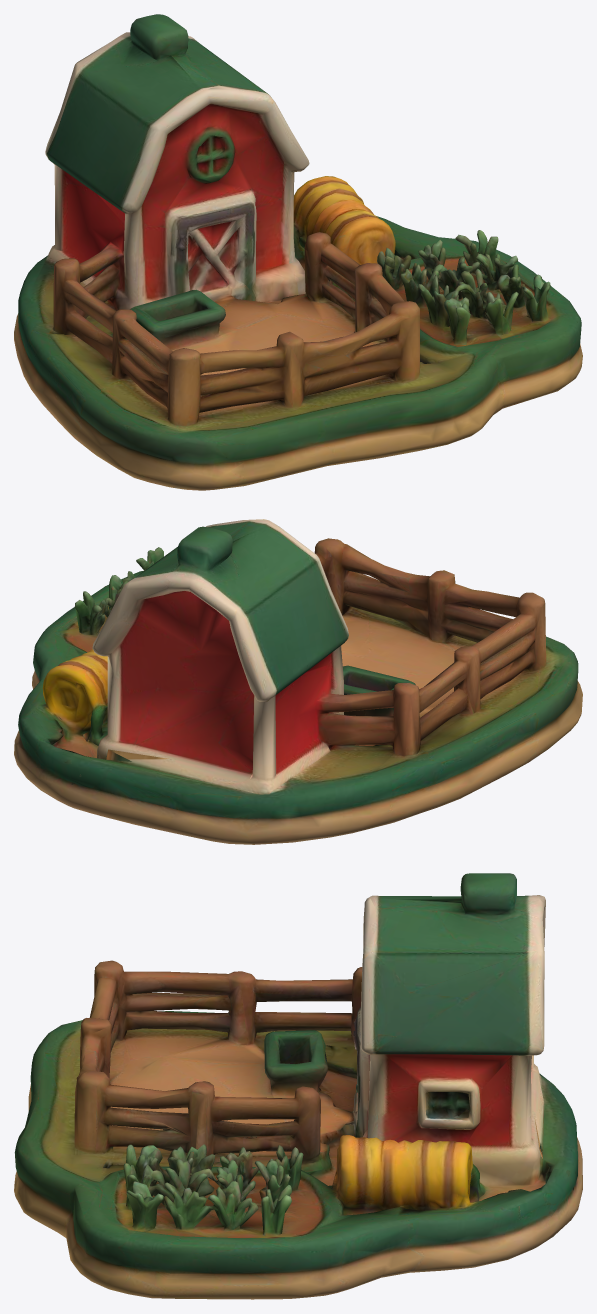
The model's file is facility-farm.glb.
3 views of the same model, one above another, from view 1: azimuth 30°, elevation 25°; view 2: azimuth 150°, elevation 25°; view 3: azimuth 270°, elevation 25° (orthographic). The views are drawn at different scales.
Visible parts, largest first — view 1: Mesh_0; view 2: Mesh_0; view 3: Mesh_0.
Boxes of the visible parts, left/top/right/bottom form: Mesh_0: left=14, top=14, right=582, bottom=490; Mesh_0: left=14, top=519, right=582, bottom=844; Mesh_0: left=14, top=873, right=582, bottom=1299.
Bounding box in the file's own units: 2 × 1.23 × 1.98.
Materials: 1 (1 with a texture image).
